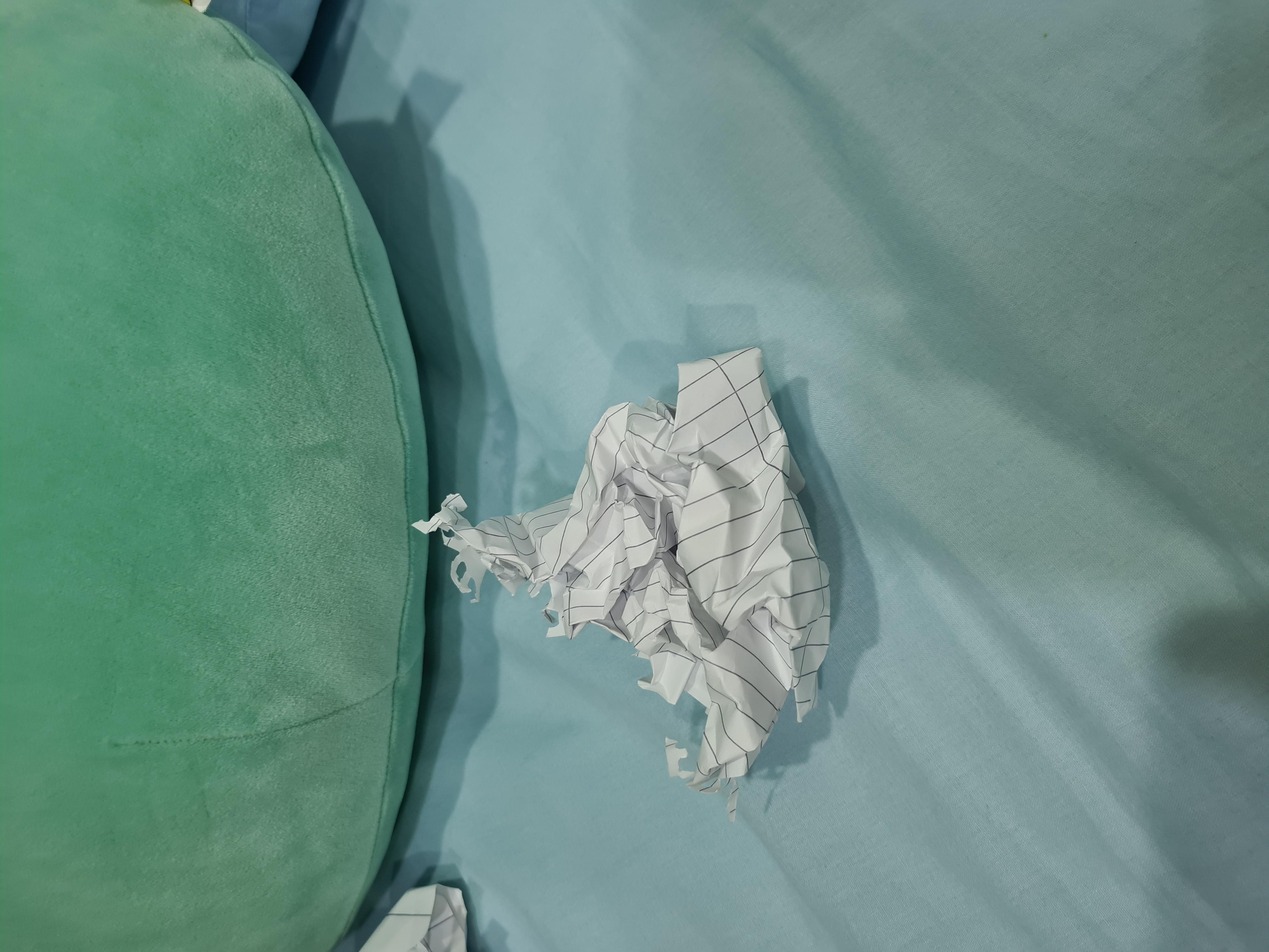paper: (223, 326, 820, 629)
